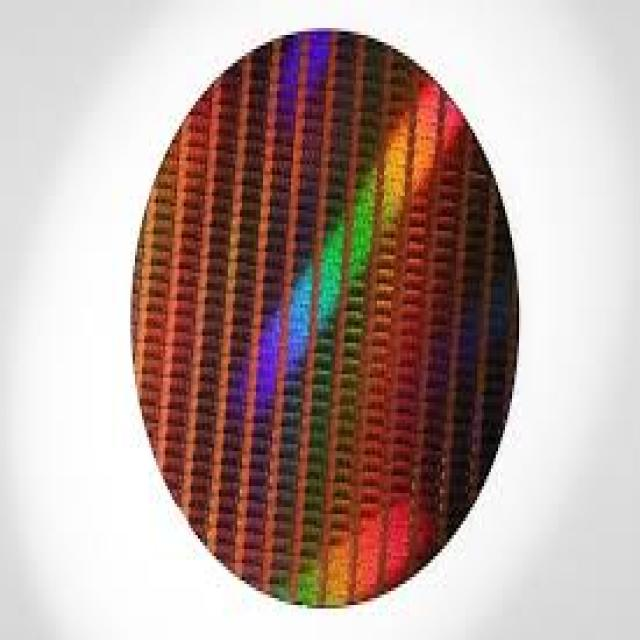Wafer: (128, 28, 521, 612)
